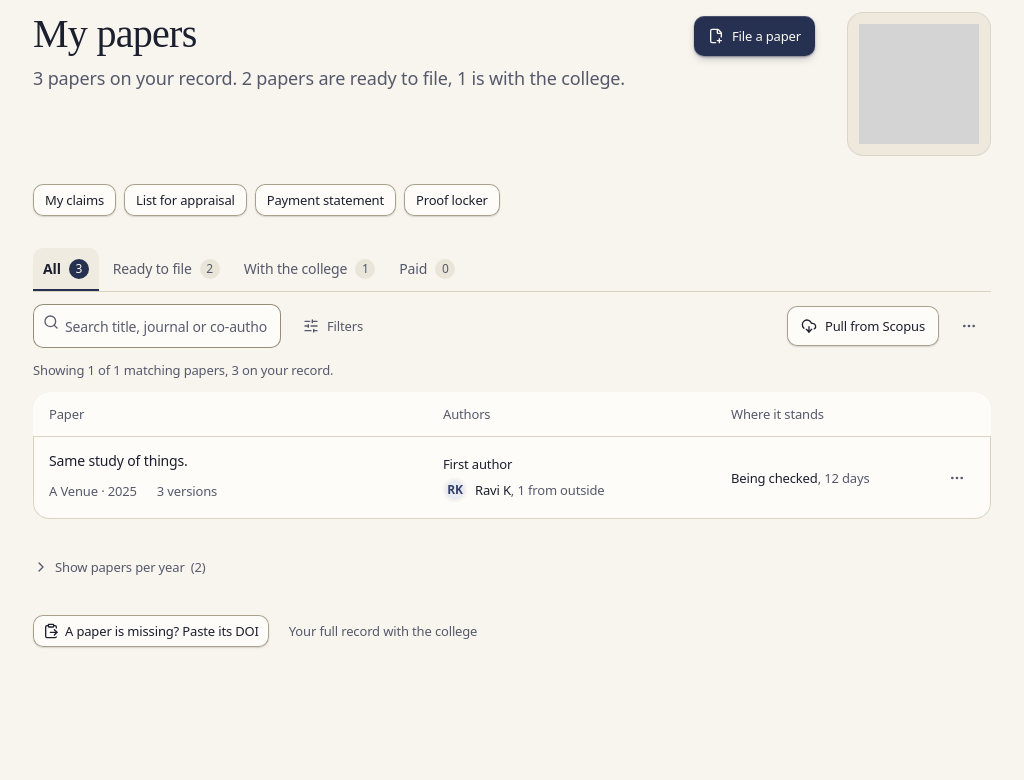
My papers › shows three versions of one title as one row, and reveals the two others on click
The width and height of the screenshot is (1024, 780).
Expected: the number of buttons "Same study of things." is 1, x1=49 y1=449 x2=188 y2=473
Expected: the text "Another version" is not shown
Click the button "3 versions".
click(187, 491)  # box x1=145 y1=475 x2=229 y2=507
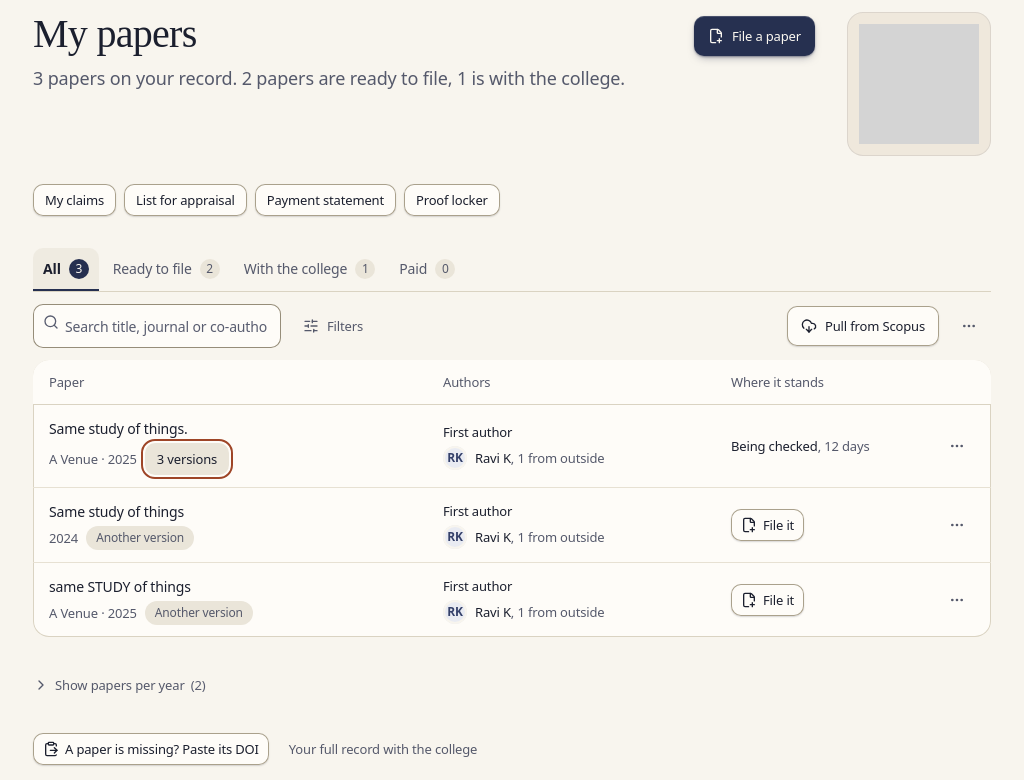
Expected: the text "Another version" is shown 2 times, x1=86 y1=526 x2=194 y2=550; x1=145 y1=601 x2=253 y2=625
